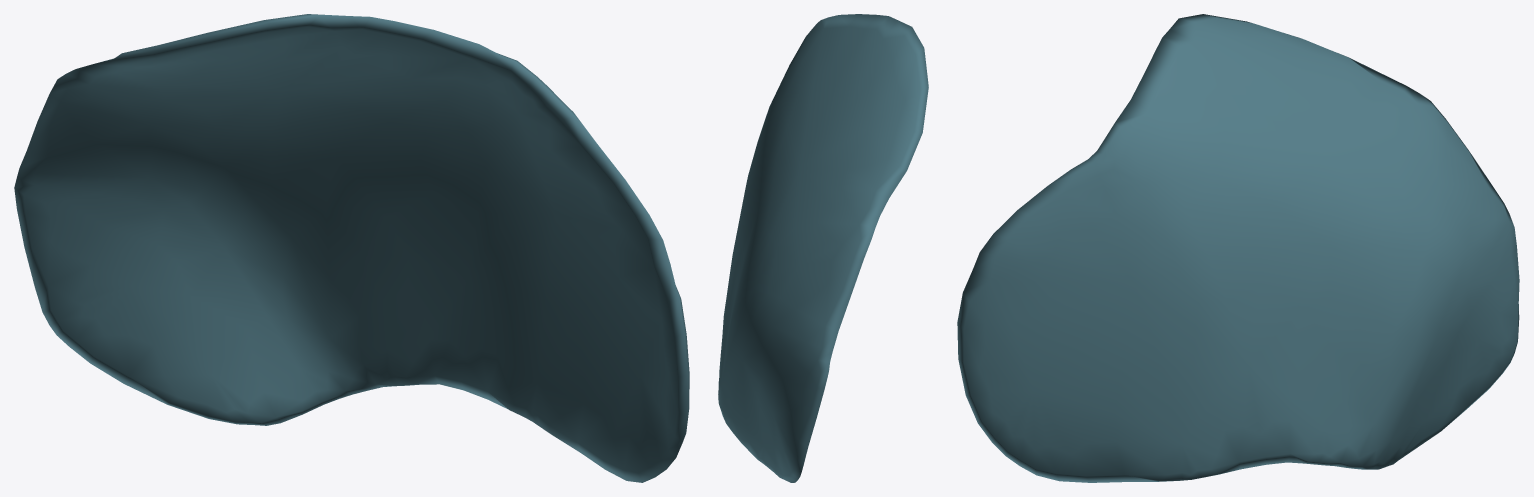
Rendered from Infraspinatus_muscle-Humeral_insertion.l_Generated_Mesh_From_X3.glb.
3 views of the same model, side by side, from view 1: azimuth 30°, elevation 25°; view 2: azimuth 150°, elevation 25°; view 3: azimuth 270°, elevation 25° (orthographic). The views are drawn at different scales.
Visible parts, largest first — view 1: Infraspinatus_muscle-Humeral_insertion.l_Generated_Mesh_From; view 2: Infraspinatus_muscle-Humeral_insertion.l_Generated_Mesh_From; view 3: Infraspinatus_muscle-Humeral_insertion.l_Generated_Mesh_From.
Boxes of the visible parts, <box> form: Infraspinatus_muscle-Humeral_insertion.l_Generated_Mesh_From: <box>14,14,689,482</box>; Infraspinatus_muscle-Humeral_insertion.l_Generated_Mesh_From: <box>718,14,928,482</box>; Infraspinatus_muscle-Humeral_insertion.l_Generated_Mesh_From: <box>957,14,1519,482</box>.
Bounding box in the file's own units: 0.0104 × 0.0148 × 0.018.
